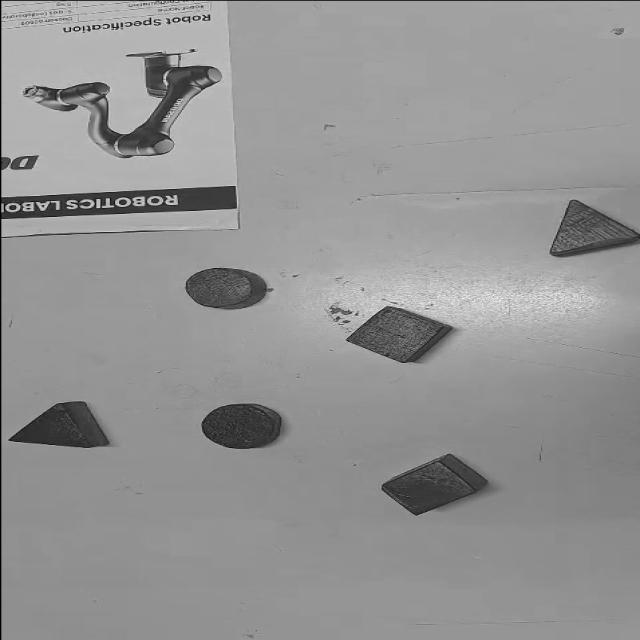bcircle: (200, 403, 282, 449), (58, 402, 109, 448)
bcube: (344, 305, 454, 365)
btriangle: (1, 400, 108, 450)
rcircle: (182, 266, 266, 310)
rcube: (378, 452, 489, 516)
rtriangle: (548, 199, 640, 257)
